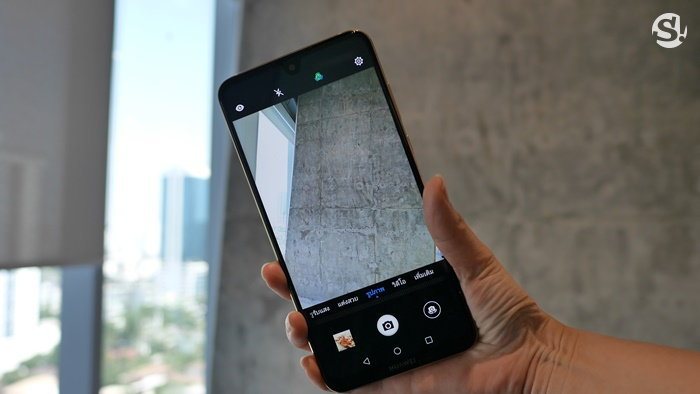Phone: (216, 27, 484, 394)
